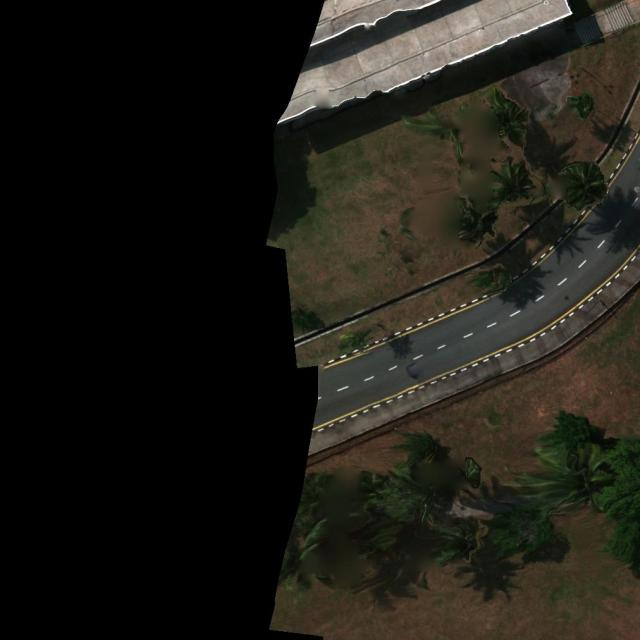Tree: (348, 468, 483, 567), (500, 441, 614, 518), (595, 434, 640, 580), (399, 102, 475, 184), (273, 516, 335, 596), (488, 500, 555, 562), (481, 86, 530, 150), (557, 160, 610, 211), (536, 411, 600, 452), (488, 155, 535, 209), (386, 426, 441, 472), (456, 198, 501, 246), (295, 471, 335, 516), (467, 265, 512, 295), (339, 325, 376, 357), (568, 91, 596, 122)
